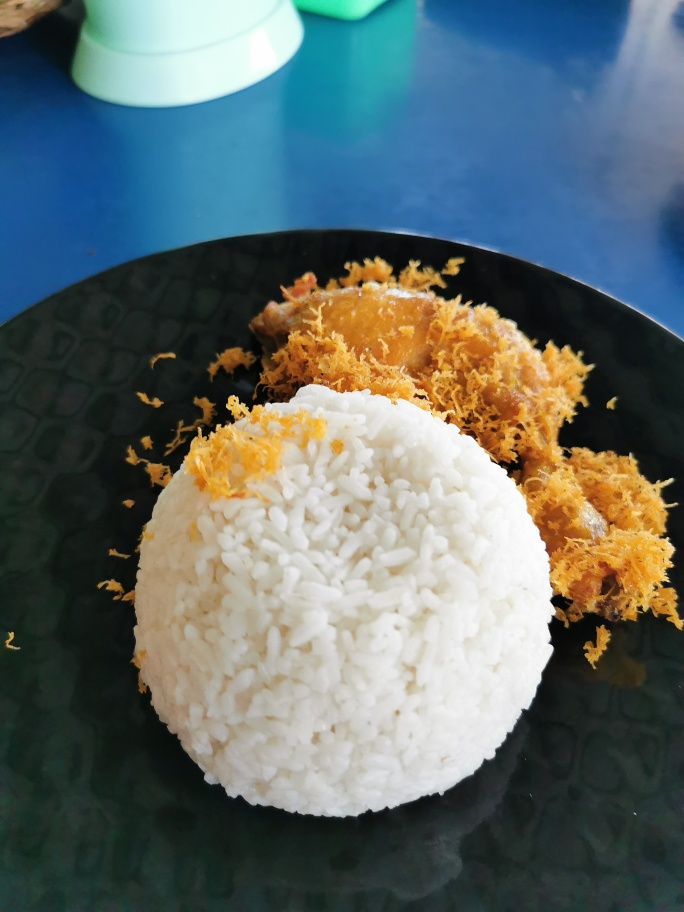ayam goreng: (261, 235, 680, 644)
nasi putih: (127, 389, 553, 827)
